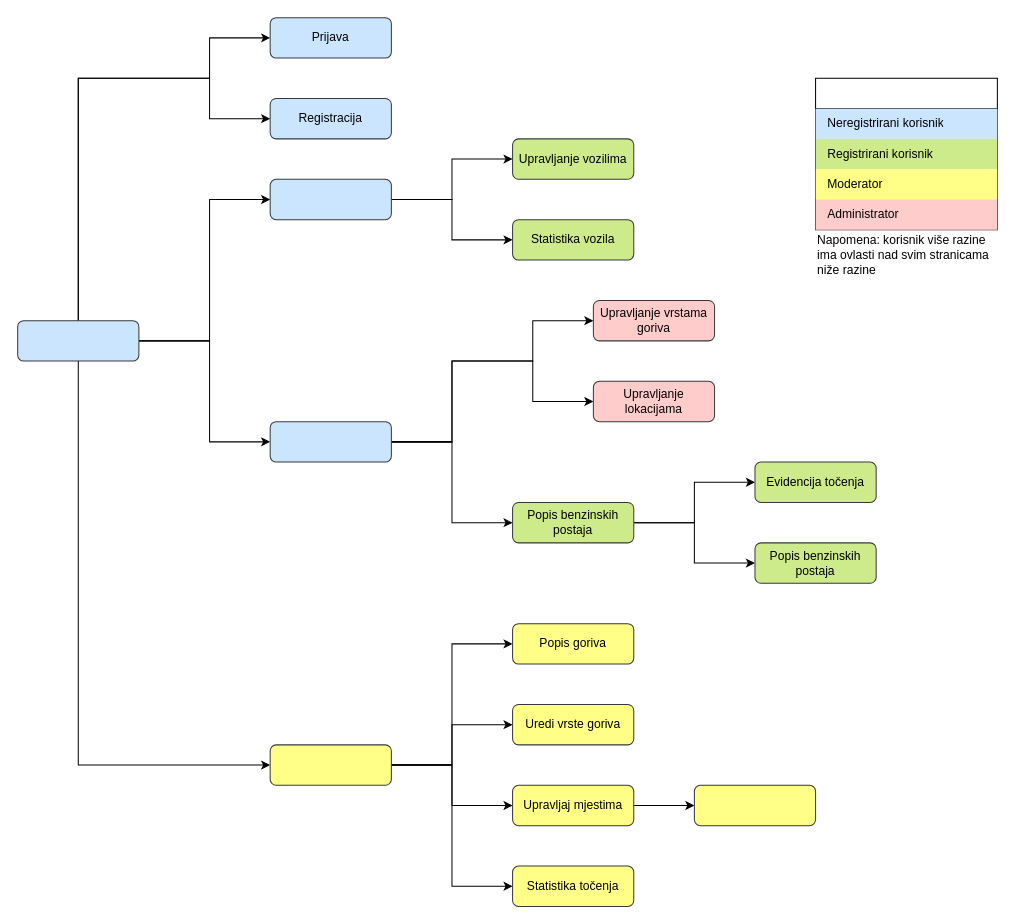
Image size: 1015x924. Some labels were removed from this diagram. The box of each missing label's shape, as (x1, y1, x2, y2) in pixels:
Benzinske postaje: (269, 421, 391, 462)
Legenda: (815, 77, 997, 109)
Moja benzinska postaja: (269, 744, 391, 785)
Plaćanje: (693, 784, 816, 826)
Početna stranica: (17, 320, 139, 361)
Vozila: (269, 178, 391, 220)
